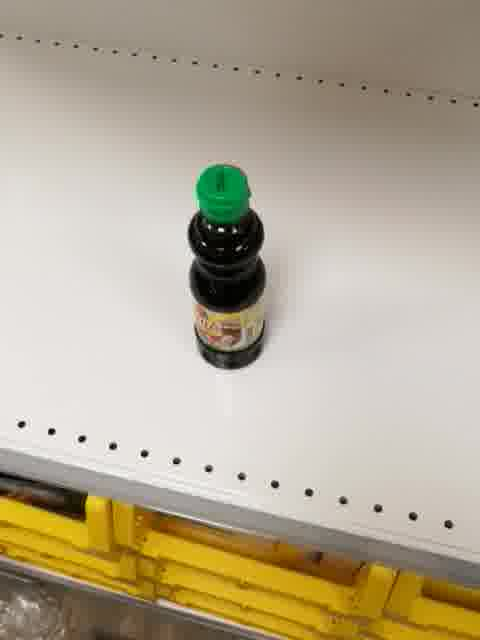cookingoil: (186, 160, 269, 372)
